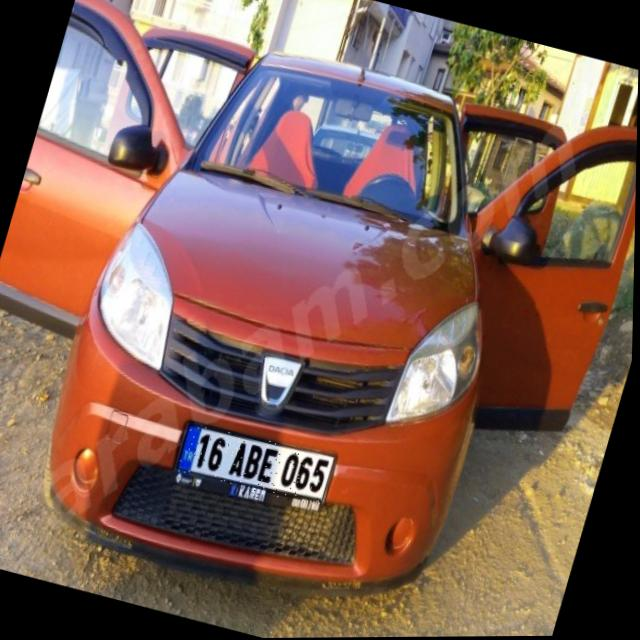license_plate: (177, 420, 336, 509)
